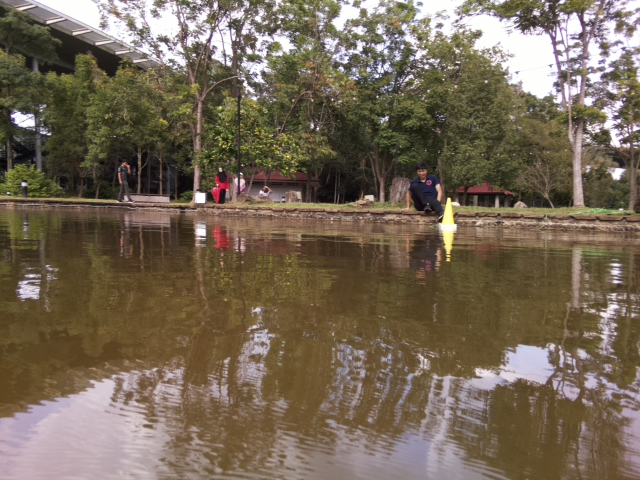checkpoint: (438, 194, 460, 232)
